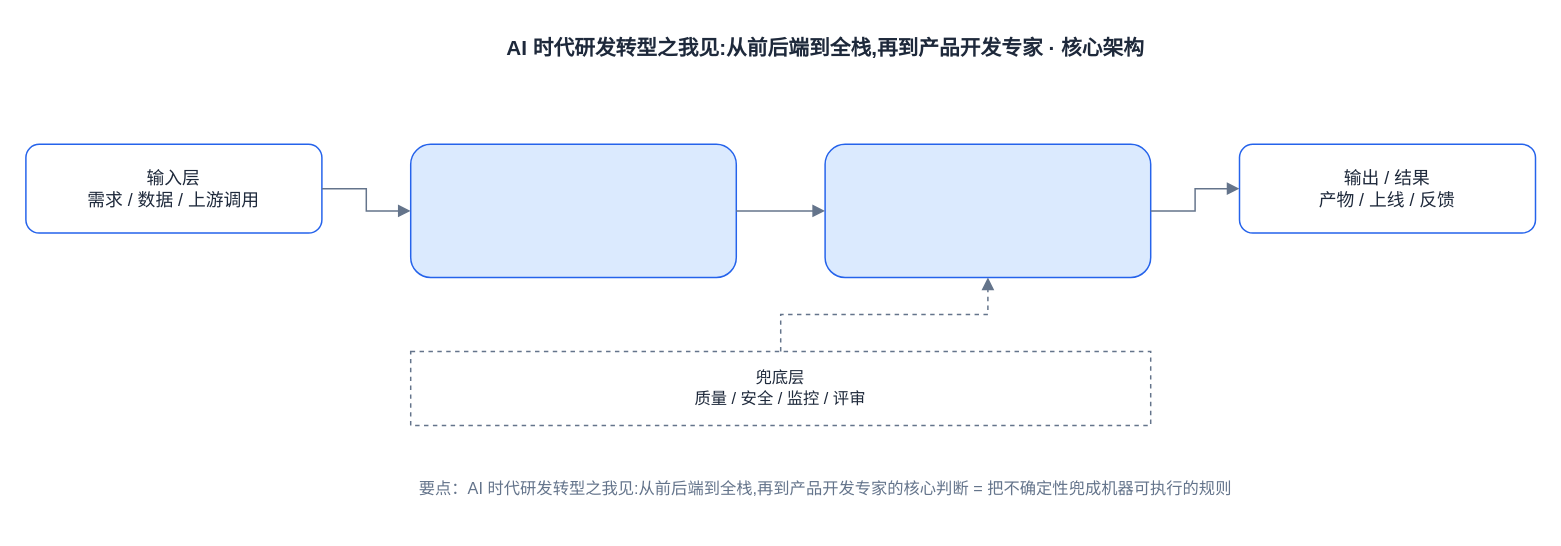
Image size: 1561x546. Some labels were removed from this diagram. Here are the shapes that lost their labels. From the top down, the centre of each, then its label:
At point (572, 210): "核心模块一 AI 时代研发转型之我见:从前后端到全栈,再到产品开发专家的左侧关键链路".
At point (987, 210): "核心模块二 AI 时代研发转型之我见:从前后端到全栈,再到产品开发专家的右侧关键链路".
